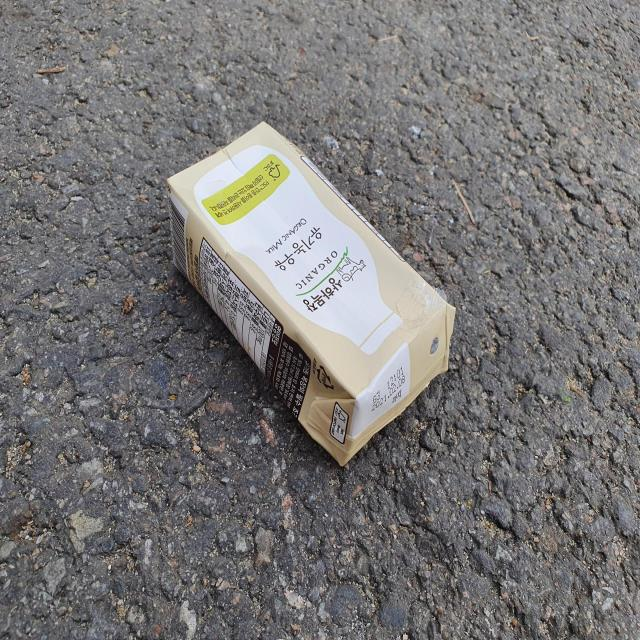paperpack: (167, 122, 456, 466)
